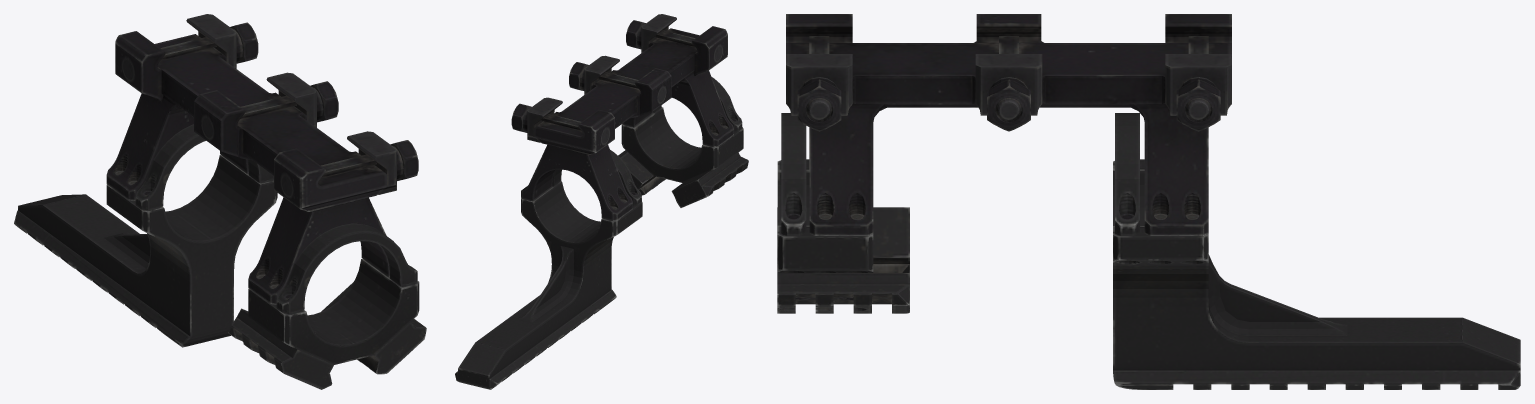
3 views of the same model, side by side, from view 1: azimuth 30°, elevation 25°; view 2: azimuth 150°, elevation 25°; view 3: azimuth 270°, elevation 25° (orthographic). The views are drawn at different scales.
Parts seen in each view (by area): view 1: TW_5aa66c72e5b5b00016327c93_PZ_Import; view 2: TW_5aa66c72e5b5b00016327c93_PZ_Import; view 3: TW_5aa66c72e5b5b00016327c93_PZ_Import.
Part boxes in pixels (x1,y1,x2,y2): TW_5aa66c72e5b5b00016327c93_PZ_Import: (14,14,426,389); TW_5aa66c72e5b5b00016327c93_PZ_Import: (455,14,748,389); TW_5aa66c72e5b5b00016327c93_PZ_Import: (777,14,1520,389).
Bounding box in the file's own units: 0.0306 × 0.1128 × 0.0566.
1 material, 1 textured.
